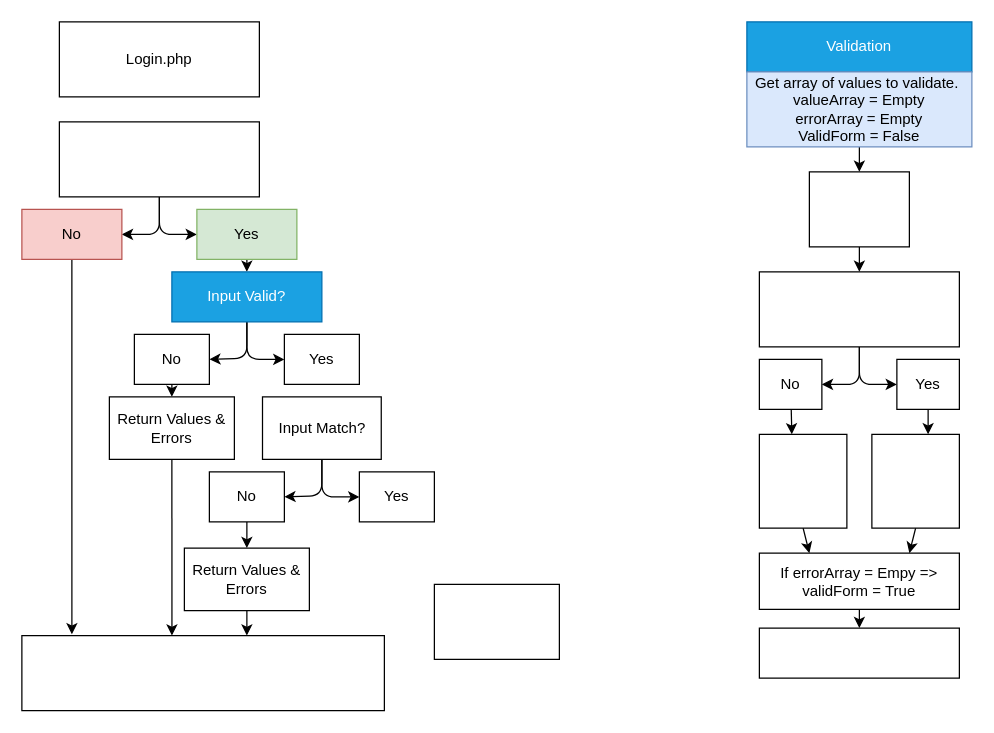
The diagram is 994 pixels wide and 733 high, and some of its shapes have lost their labels. The centre of each missing label's shape, as x and y in pixels:
"Add value to valueArray" goes at point 915,480.
"Add value to valueArray Add error to errorArray" goes at point 802,480.
"Does value match requirement?" goes at point 858,309.
"For each value, clean input" goes at point 858,209.
"Request = POST?" goes at point 158,159.
"Return valueArray, errorArray, Validform" goes at point 858,652.
"Show Home page" goes at point 496,621.
"ShowForm" goes at point 202,672.
